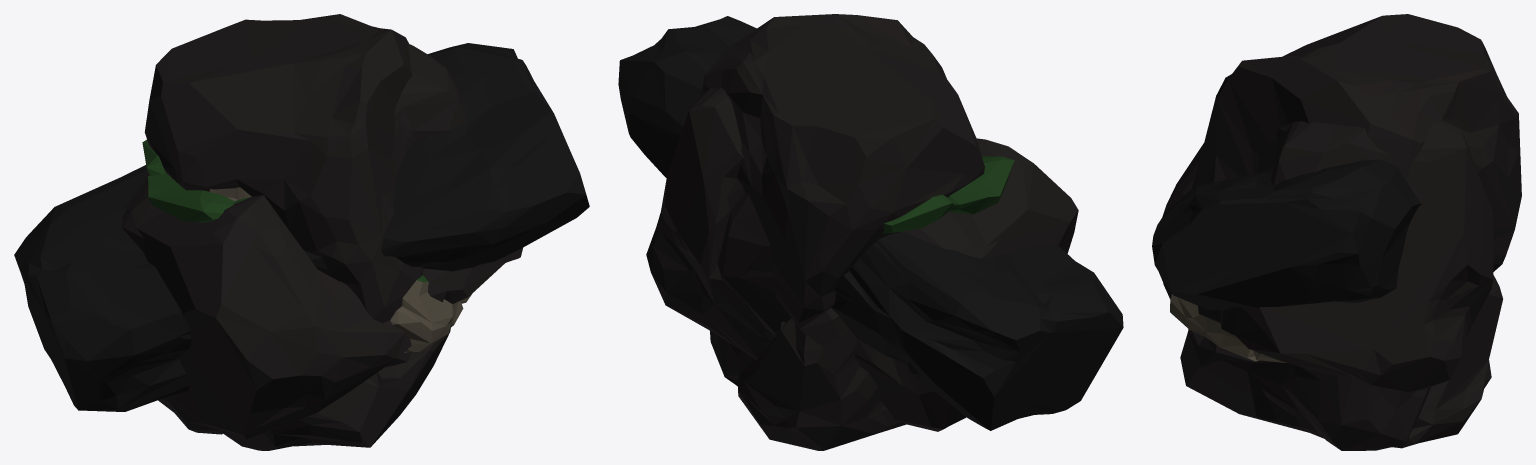
File: Cliff_island_coll.FBX
3 renders of one model, left to right at view 1: azimuth 30°, elevation 25°; view 2: azimuth 150°, elevation 25°; view 3: azimuth 270°, elevation 25°, orthographic. The views are drawn at different scales.
Parts seen in each view (by area): view 1: Group64725, Group64754, Group64733, Group64731, Group64730; view 2: Group64725, Group64754, Group64733, Group64730, Group64731; view 3: Group64725, Group64733, Group64754, Group64731.
Part boxes in pixels (x1,y1,x2,y2): Group64725: [144, 14, 450, 450]; Group64754: [14, 43, 589, 411]; Group64733: [122, 43, 522, 439]; Group64731: [142, 139, 463, 352]; Group64730: [148, 173, 472, 303]; Group64725: [700, 14, 984, 450]; Group64754: [618, 16, 1123, 430]; Group64733: [646, 87, 1078, 431]; Group64730: [948, 156, 1014, 214]; Group64731: [883, 194, 953, 233]; Group64725: [1180, 14, 1521, 450]; Group64733: [1159, 121, 1493, 392]; Group64754: [1152, 159, 1421, 310]; Group64731: [1170, 294, 1259, 361].
Bounding box in the file's own units: 16449 × 12103 × 10522.
